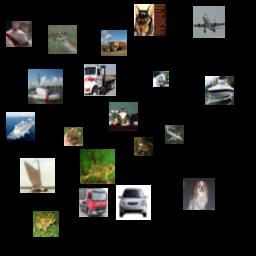airplane: (193, 6, 225, 38), (165, 125, 184, 144)
automobile: (116, 185, 151, 220)
cat: (134, 4, 166, 36), (109, 102, 138, 131)
deer: (48, 25, 77, 54)
dog: (183, 178, 215, 210), (6, 21, 32, 47)
frog: (80, 149, 115, 184), (33, 211, 59, 237), (64, 127, 83, 146), (134, 137, 153, 156)
ship: (20, 158, 55, 193), (28, 69, 63, 104), (205, 76, 234, 105), (6, 112, 35, 141)
truck: (84, 64, 116, 96), (79, 188, 108, 217), (101, 30, 127, 56)
